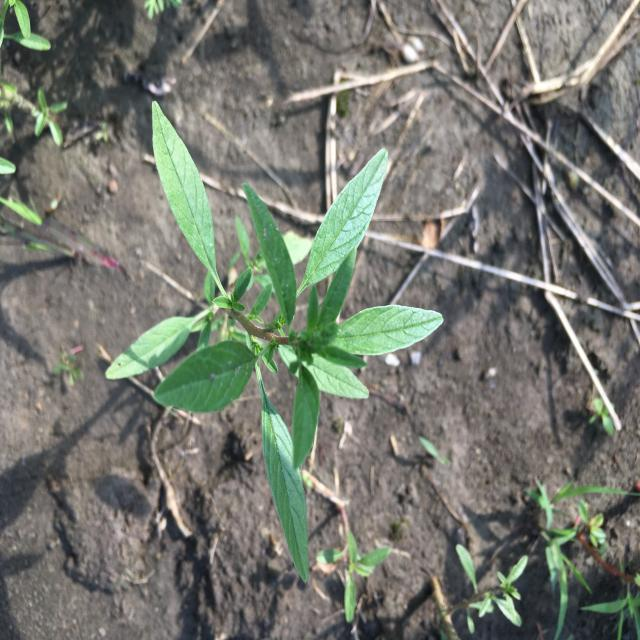Waterhemp: (102, 100, 446, 585)
